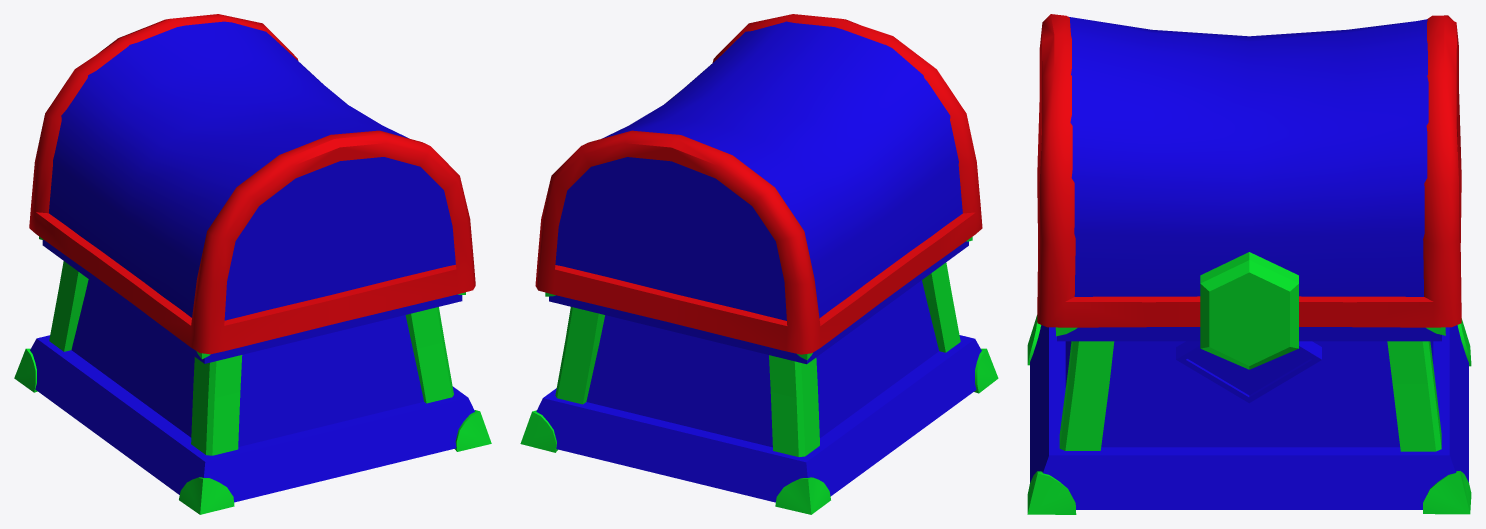
Rendered from chest.fbx.
3 renders of one model, left to right at view 1: azimuth 30°, elevation 25°; view 2: azimuth 150°, elevation 25°; view 3: azimuth 270°, elevation 25°, orthographic. The views are drawn at different scales.
Visible parts, largest first — view 1: Truhe_Deckel_low, Truhe_Basis_low; view 2: Truhe_Deckel_low, Truhe_Basis_low; view 3: Truhe_Deckel_low, Truhe_Basis_low.
Boxes of the visible parts, x1=… form: Truhe_Deckel_low: x1=29, y1=14, x2=475, y2=354; Truhe_Basis_low: x1=14, y1=236, x2=491, y2=514; Truhe_Deckel_low: x1=535, y1=14, x2=982, y2=354; Truhe_Basis_low: x1=520, y1=237, x2=998, y2=514; Truhe_Deckel_low: x1=1037, y1=14, x2=1461, y2=369; Truhe_Basis_low: x1=1027, y1=315, x2=1471, y2=514.
Size of the model in its own units: 203 by 221 by 225.
